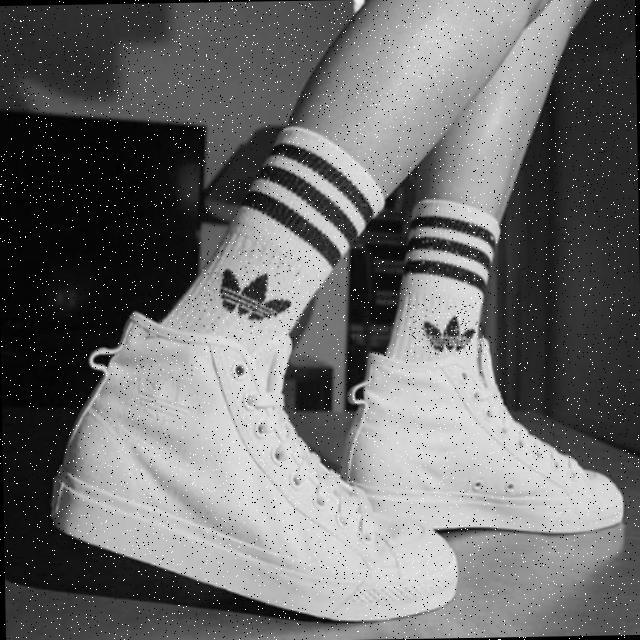Adidas: (198, 249, 303, 342), (124, 364, 200, 440), (408, 303, 485, 357)
